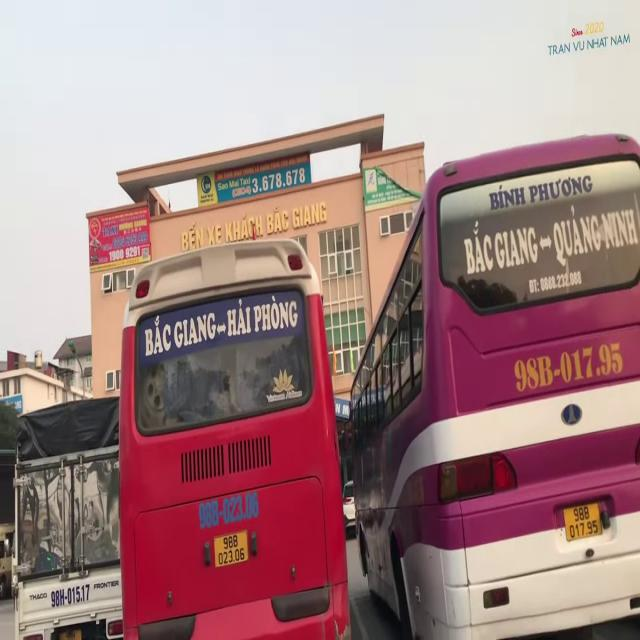bien_vang: (562, 504, 605, 538), (210, 528, 248, 566)
